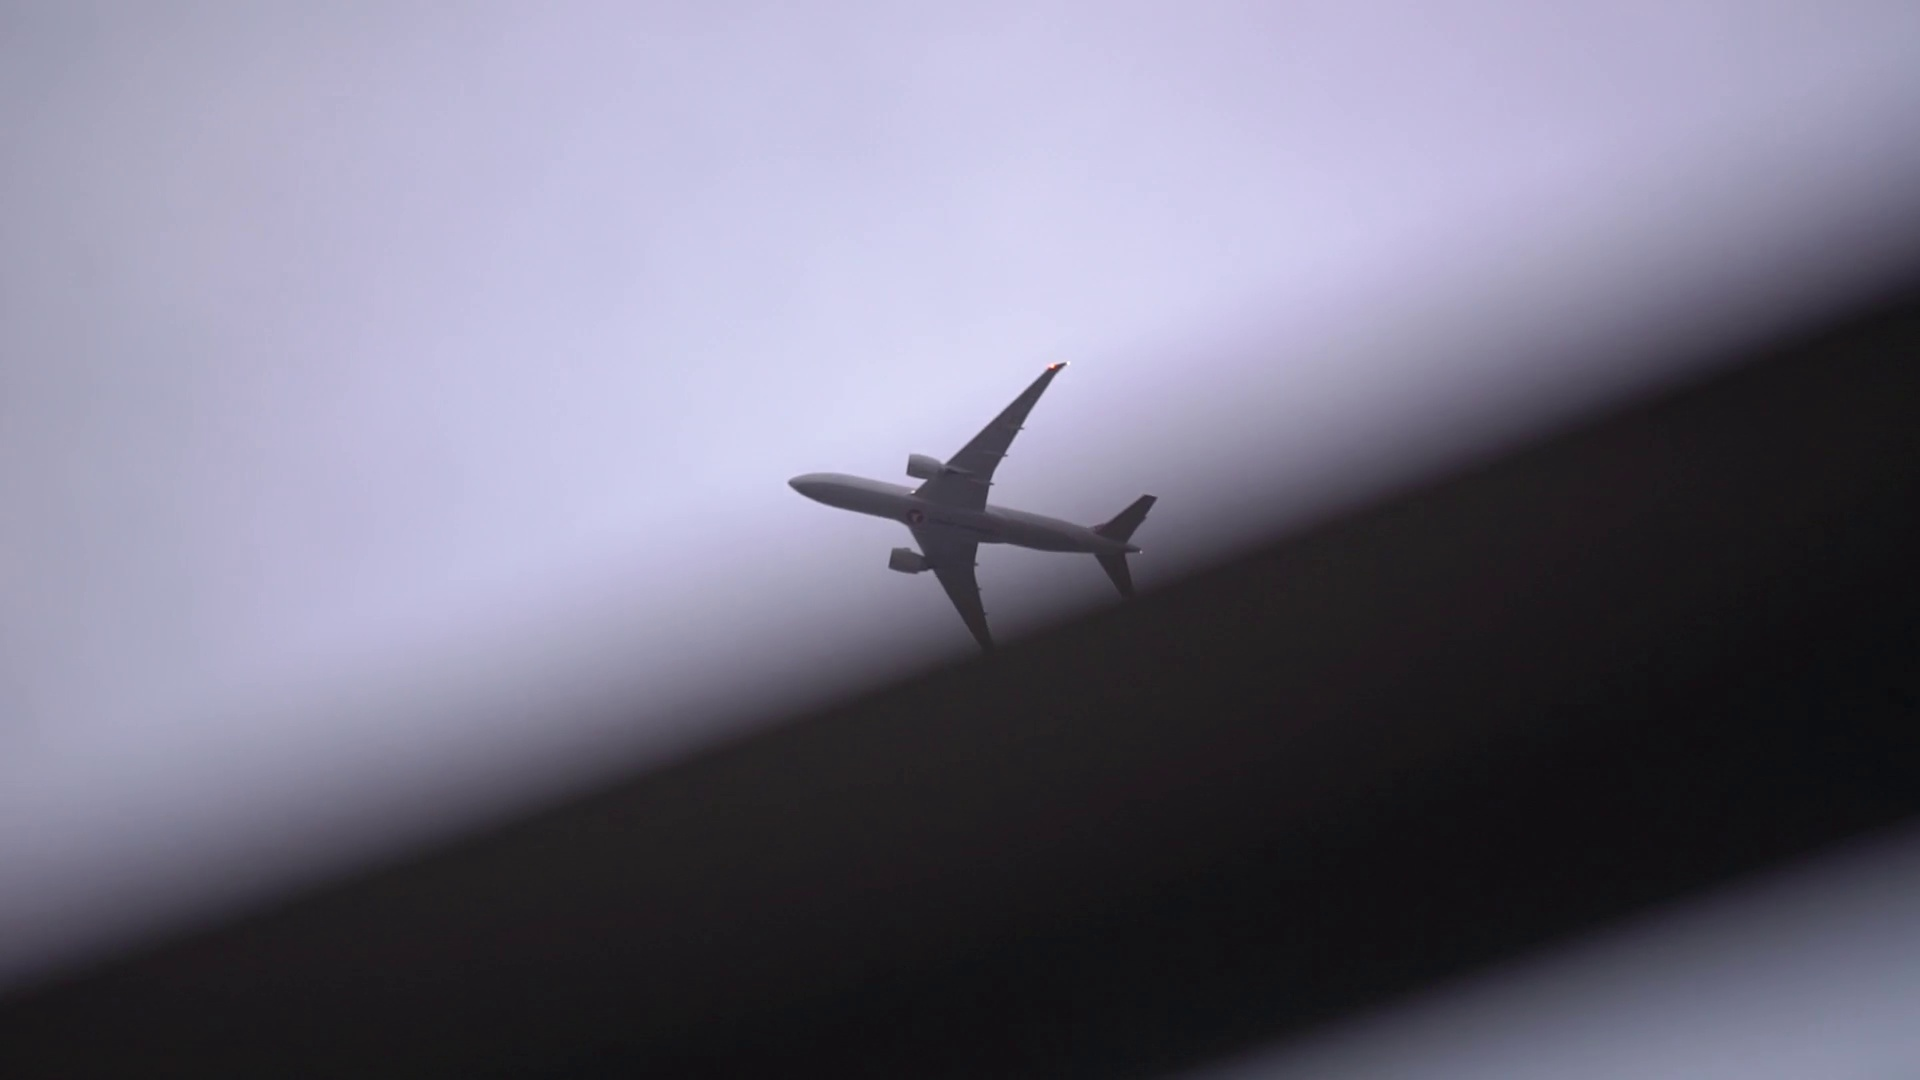plane: (789, 360, 1158, 651)
